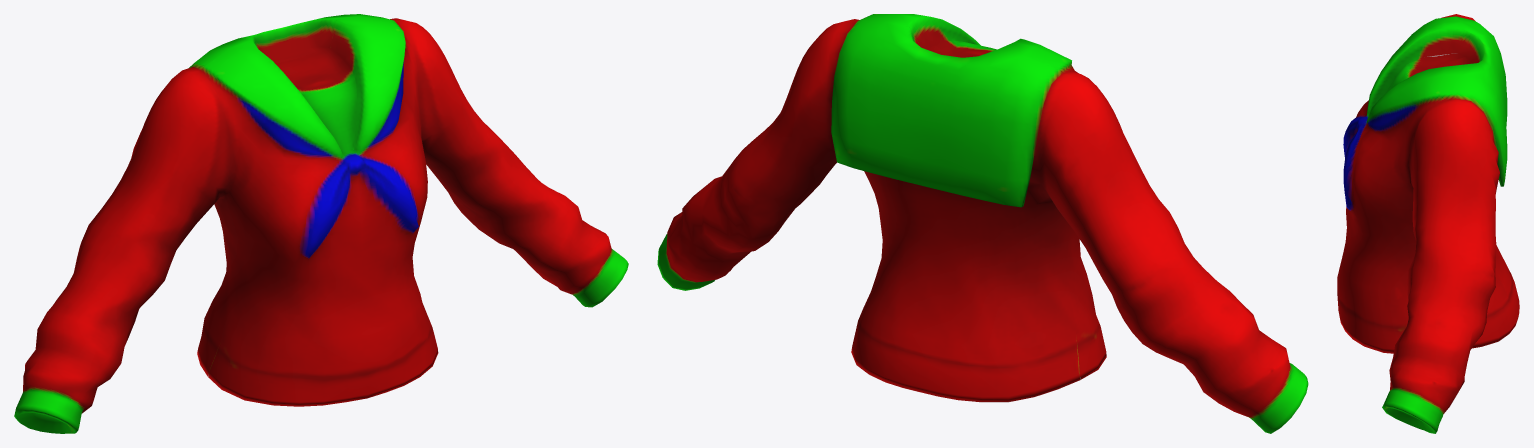
The model's file is Top_Seifuku.obj.
3 renders of one model, left to right at view 1: azimuth 30°, elevation 25°; view 2: azimuth 150°, elevation 25°; view 3: azimuth 270°, elevation 25°, orthographic. The views are drawn at different scales.
Visible parts, largest first — view 1: Top_Seifuku_0; view 2: Top_Seifuku_0; view 3: Top_Seifuku_0.
Boxes of the visible parts, x1=… form: Top_Seifuku_0: x1=14, y1=14, x2=628, y2=433; Top_Seifuku_0: x1=657, y1=14, x2=1308, y2=433; Top_Seifuku_0: x1=1337, y1=14, x2=1519, y2=433.
Size of the model in its own units: 0.9073 by 0.4584 by 0.2782.
1 material, 1 textured.
